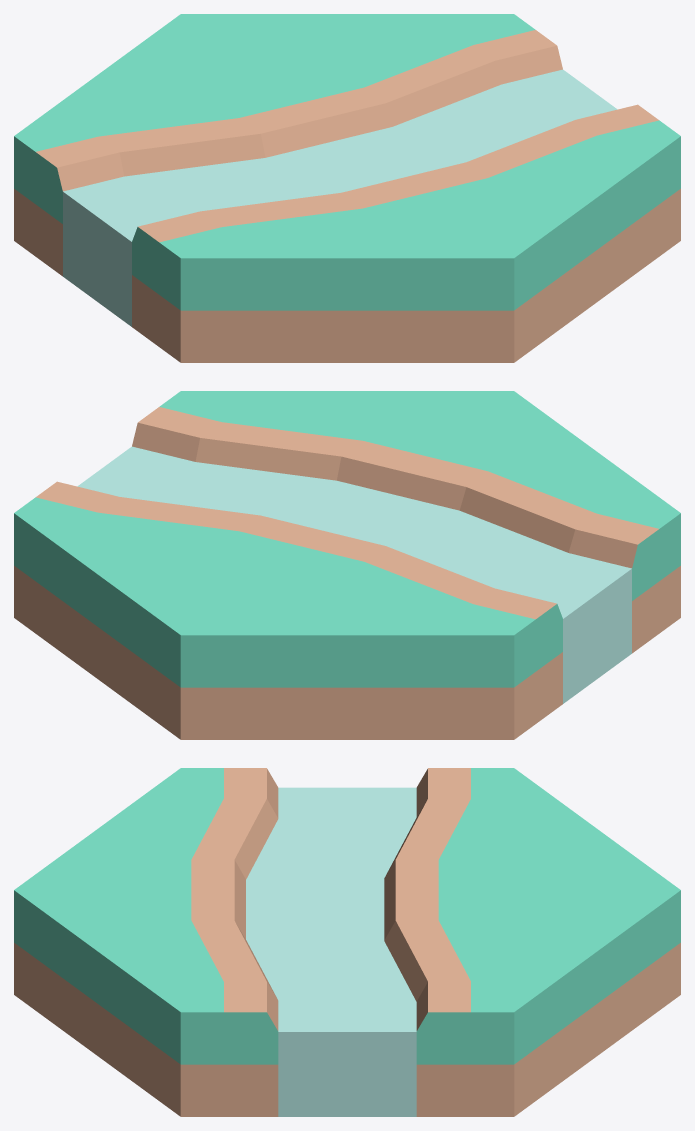
File: river_straight.glb
3 views of the same model, one above another, from view 1: azimuth 30°, elevation 25°; view 2: azimuth 150°, elevation 25°; view 3: azimuth 270°, elevation 25° (orthographic).
Parts seen in each view (by area): view 1: river_straight; view 2: river_straight; view 3: river_straight.
Part boxes in pixels (x1,y1,x2,y2): river_straight: (14,14,680,362); river_straight: (14,391,680,739); river_straight: (14,768,680,1116).
Size of the model in its own units: 1 by 0.2 by 1.15.
